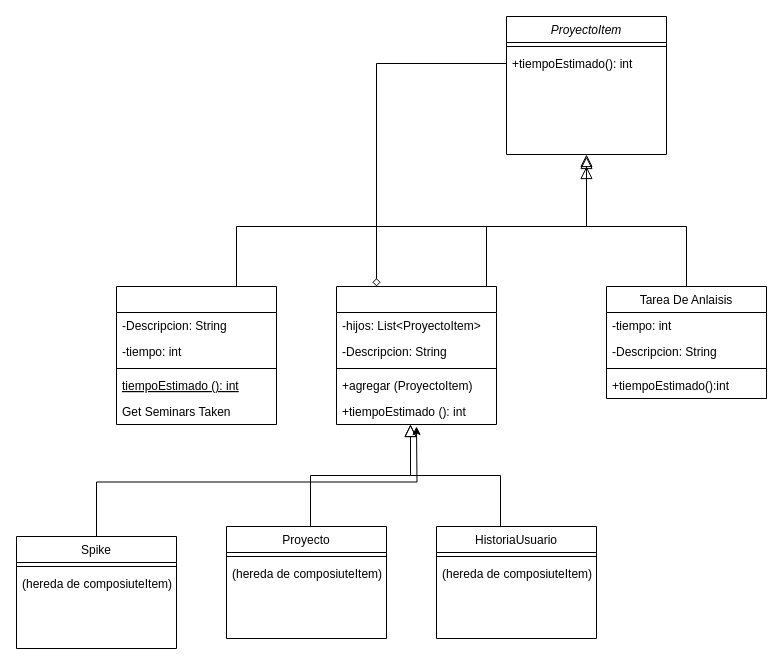
Image size: 783x665. Some labels were removed from this diagram. The shapes that lost their labels are listed below. From the top down, each one's box as (x1, y1, x2, y2) in pixels, then its label:
(116, 286, 276, 424): Tarea
(336, 286, 496, 424): CompositeItem
